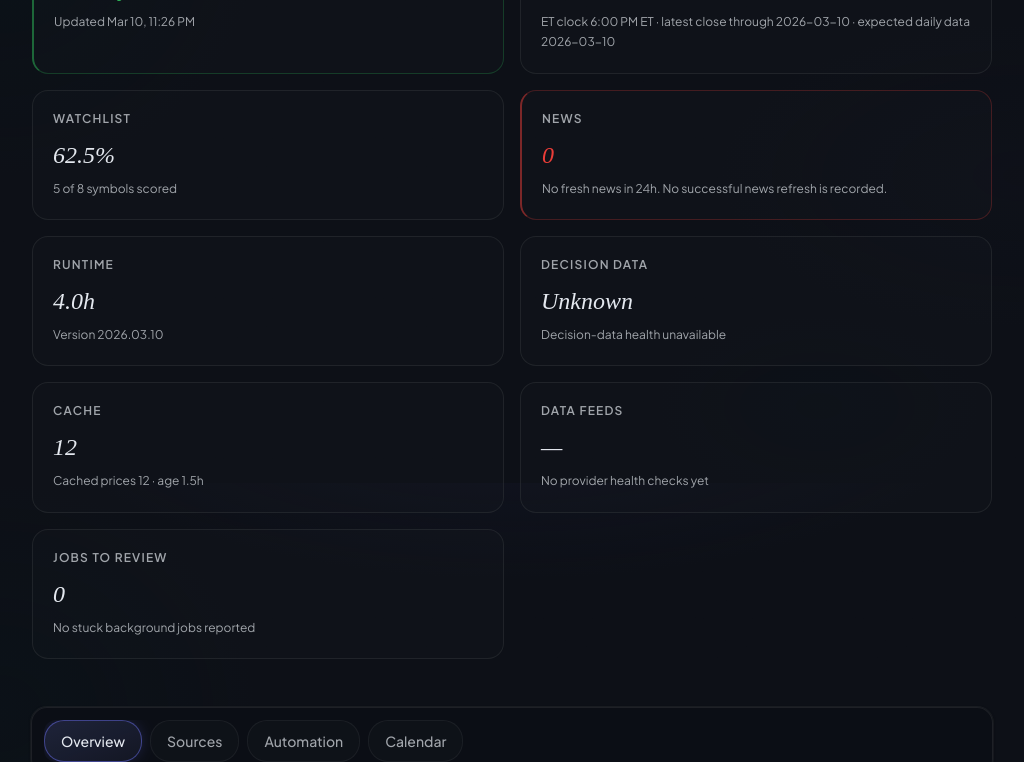
it: StatusWorkspace › shows empty-state copy for cards with no live rows and keeps zero latency visible
(page scrolled)
Expected: the text "62.5%" is shown, [53,142,115,168]
Expected: the text "5 of 8 symbols scored" is shown, [53,181,177,196]
Click the tab "Sources" at [195, 741], box [150,720,240,761]
(page scrolled)
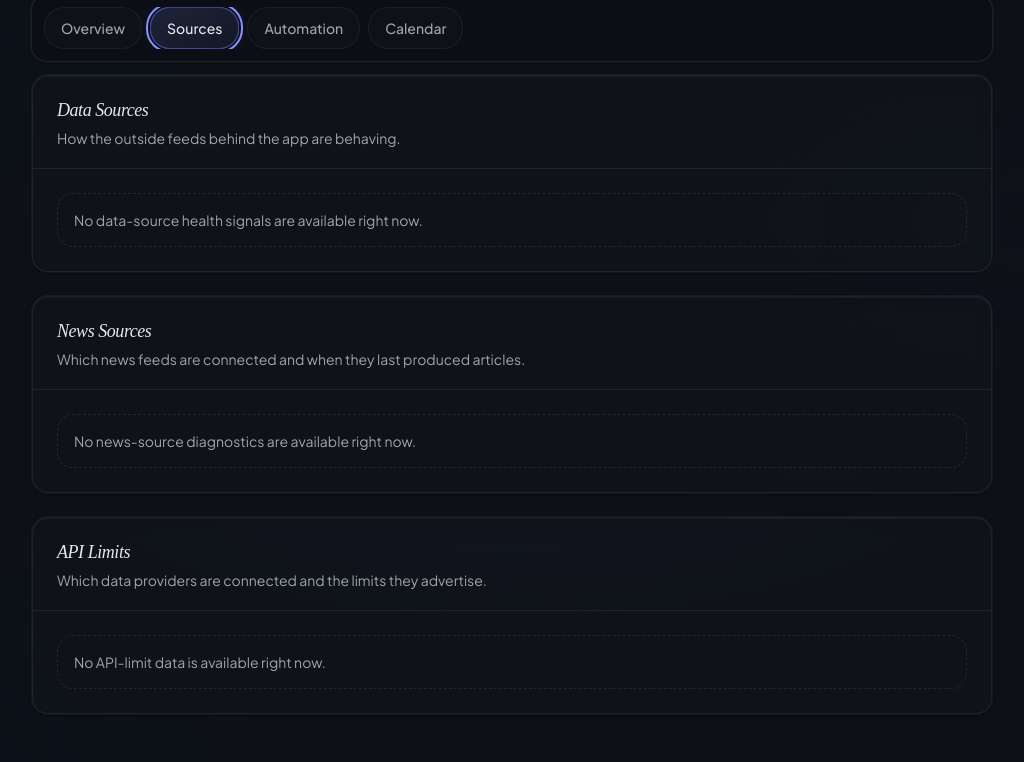
Now the text "No data-source health signals are available right now." is shown, box [57,193,967,247]
Now the text "No news-source diagnostics are available right now." is shown, box [57,414,967,468]
Now the text "No API-limit data is available right now." is shown, box [57,635,967,689]
